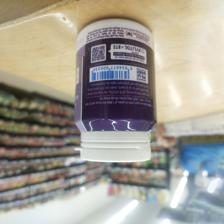Xylitol_BTS: (72, 17, 156, 165)
